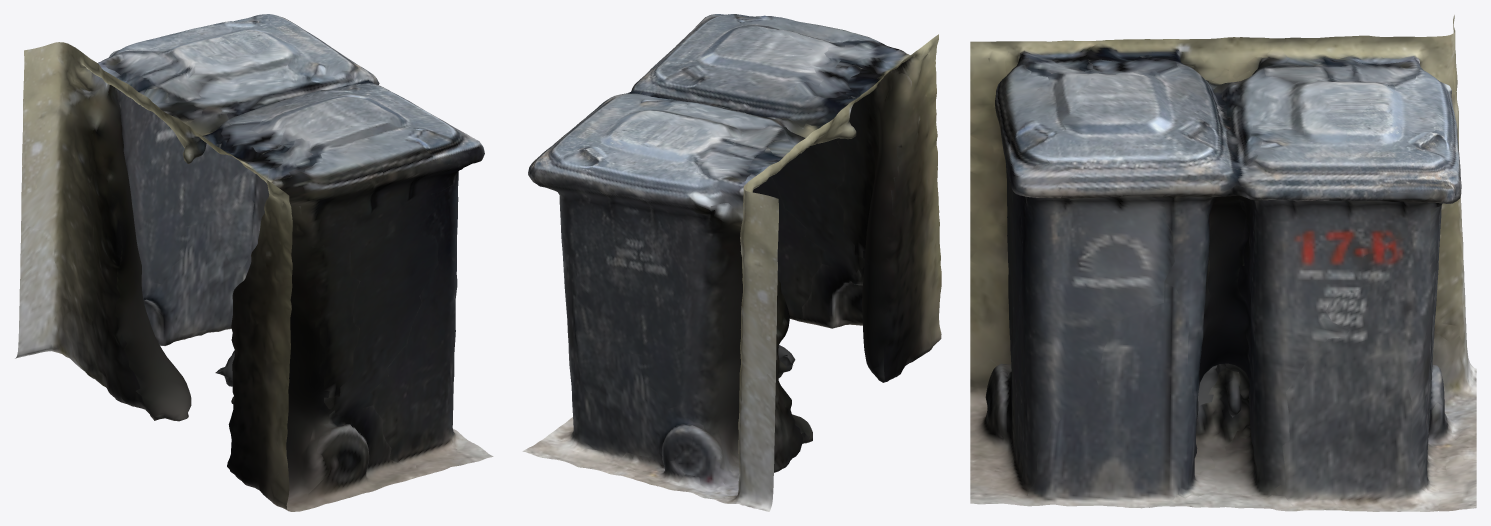
Rendered from grabage.fbx.
The picture shows the model from 3 angles, left to right: view 1: azimuth 30°, elevation 25°; view 2: azimuth 150°, elevation 25°; view 3: azimuth 270°, elevation 25°; orthographic projection. The views are drawn at different scales.
Parts seen in each view (by area): view 1: Object_4; view 2: Object_4; view 3: Object_4.
Part boxes in pixels (<box>): Object_4: <box>15,14,493,511</box>; Object_4: <box>522,14,941,511</box>; Object_4: <box>970,15,1476,511</box>.
Size of the model in its own units: 92.57 by 110 by 134.
Materials: 1 (1 with a texture image).
